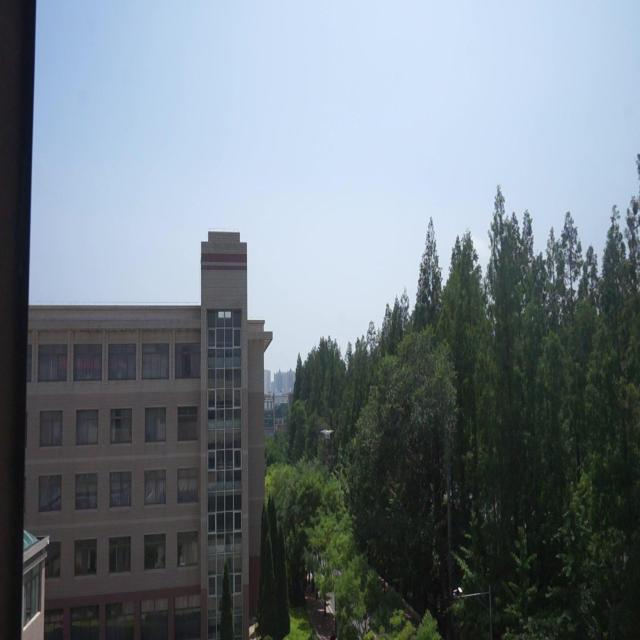drone: (318, 426, 334, 441)
